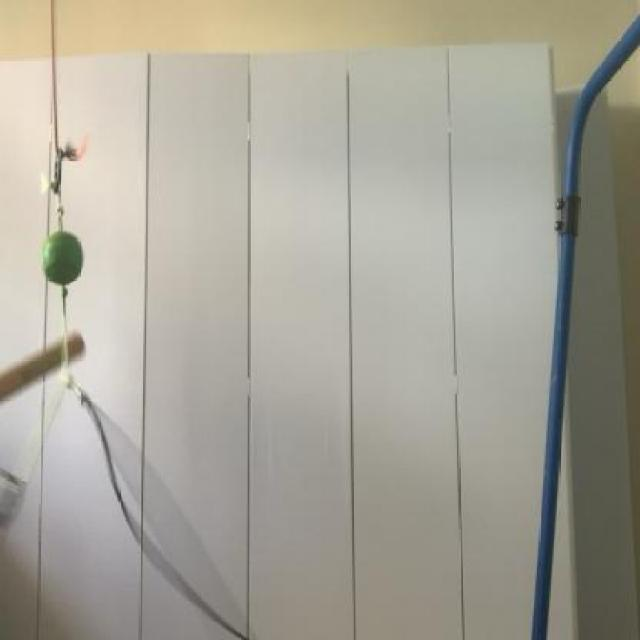baseball: (36, 222, 89, 290)
